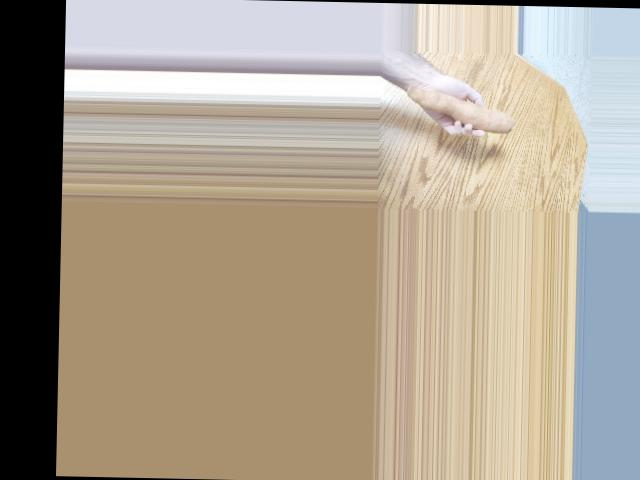sweet_potato: (418, 91, 530, 139)
